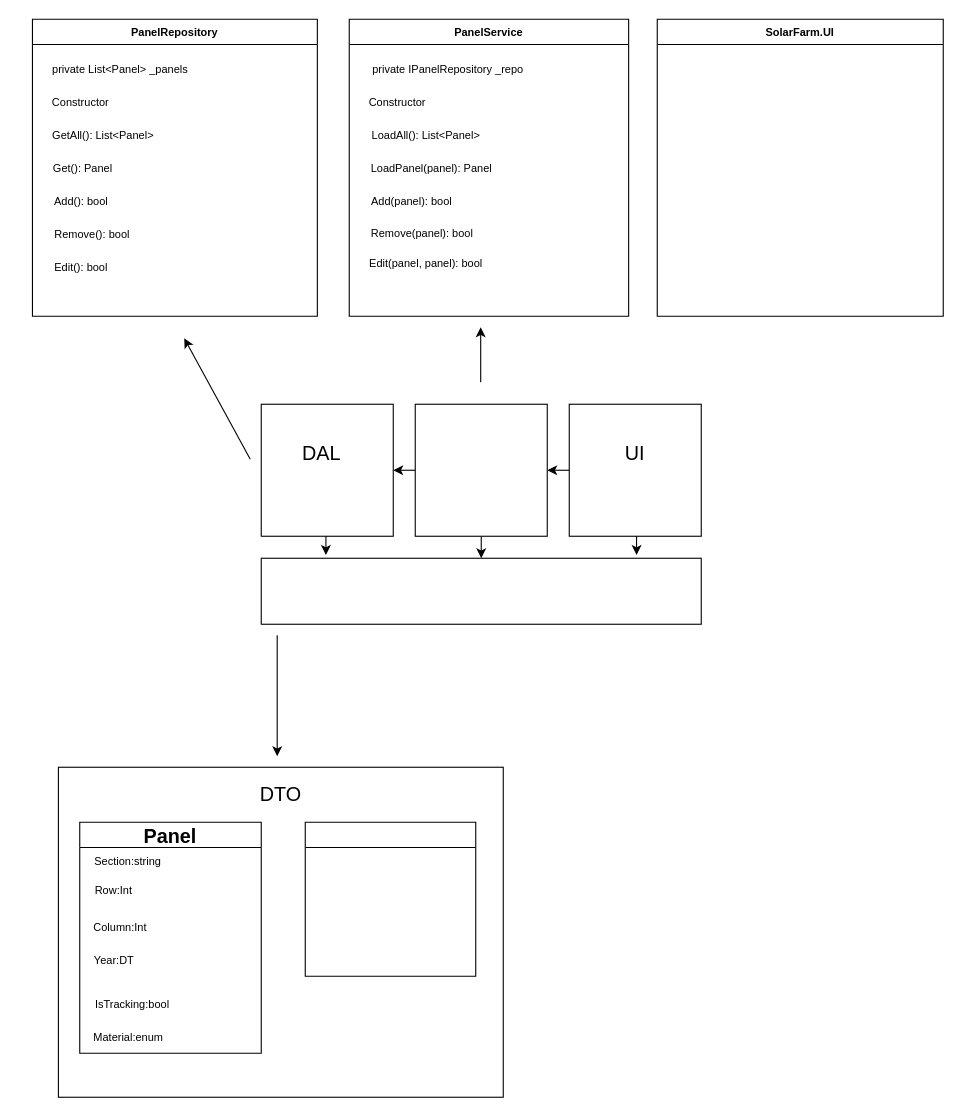
The diagram is 963 pixels wide and 1117 high, and some of its shapes have lost their labels. Each missing label, with the centre of its shape:
BLL: the point at 480,469
Core: the point at 480,590
Material: the point at 390,898
